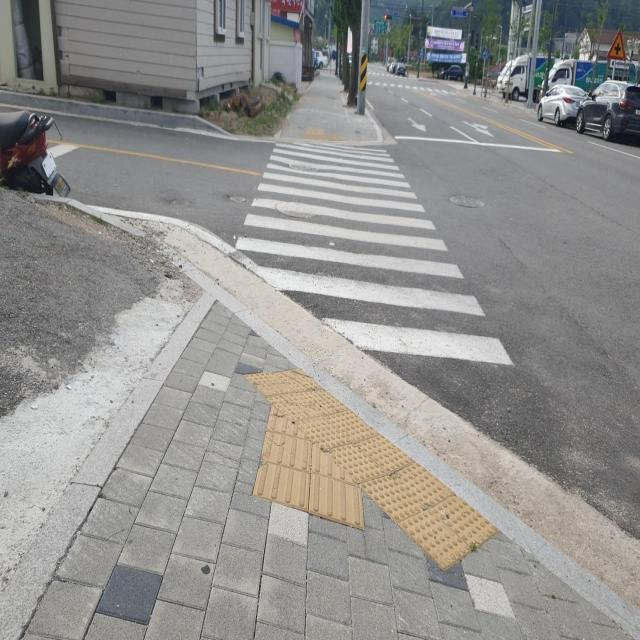횡단보도: (232, 140, 518, 370)
